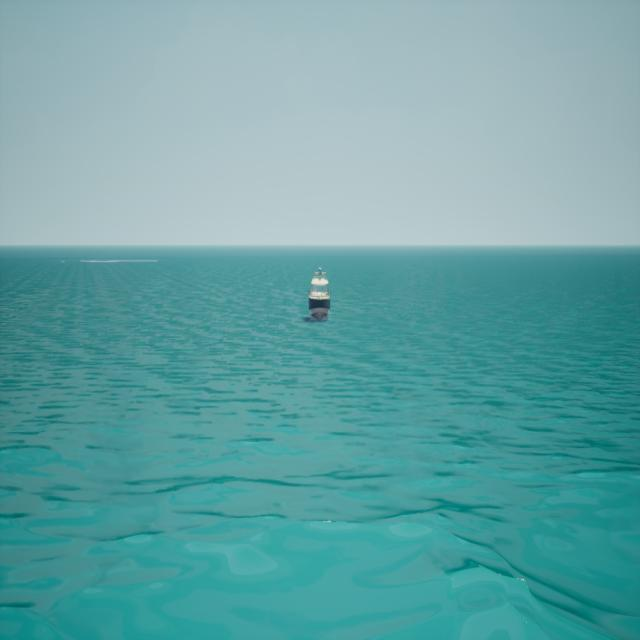ship: (308, 267, 332, 321)
